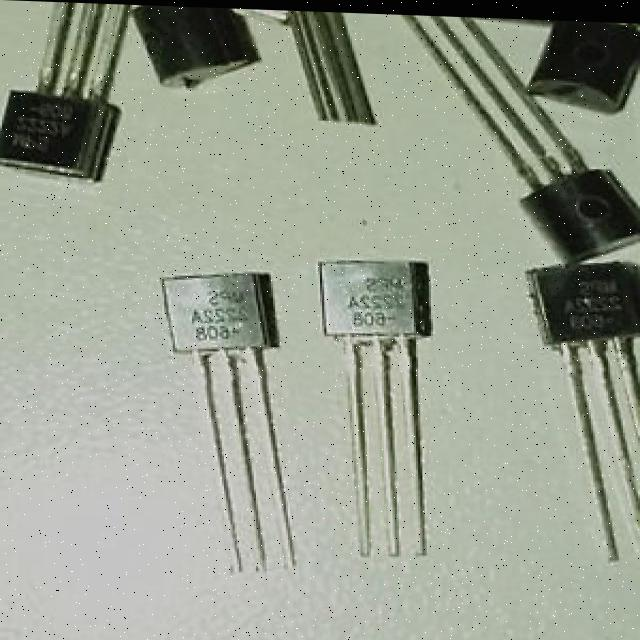Transistor: (398, 12, 640, 251), (146, 261, 318, 585), (301, 246, 448, 560), (507, 248, 640, 578), (0, 3, 127, 211), (122, 6, 277, 107)
